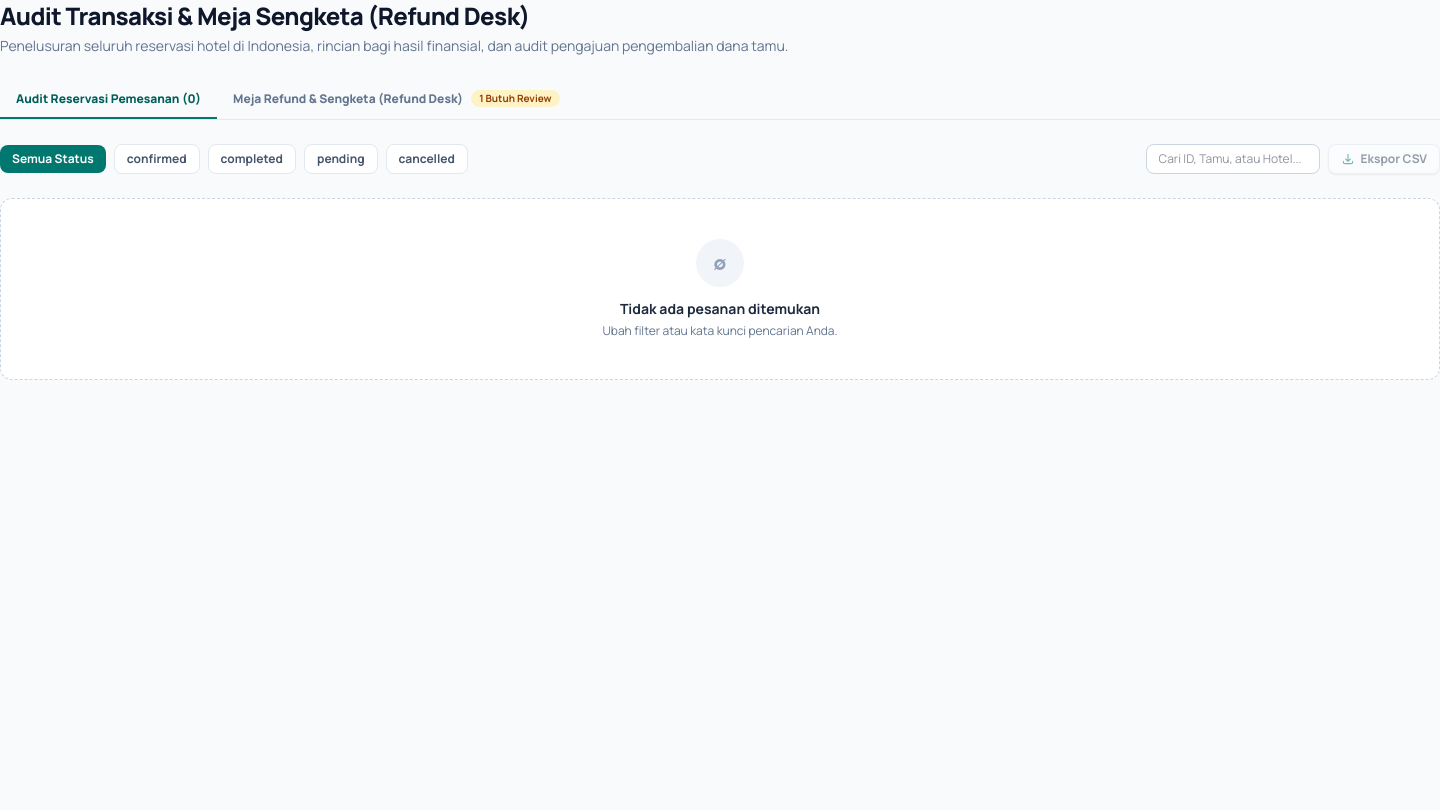
Test: OrderAudit.jsx Component Tests (Tab Refund, Setujui/Tolak Refund & Bukti Mitra) › tombol Setujui membuka modal dan memanggil approveRefundRequest
Later steps or results of the test are not shown.
expect the heading "Audit Transaksi & Meja Sengketa (Refund Desk)" is shown: met, box [0,0,530,32]
Click the button "Meja Refund & Sengketa (Refund Desk) 1 Butuh Review" at (396, 100), box [217,80,576,119]
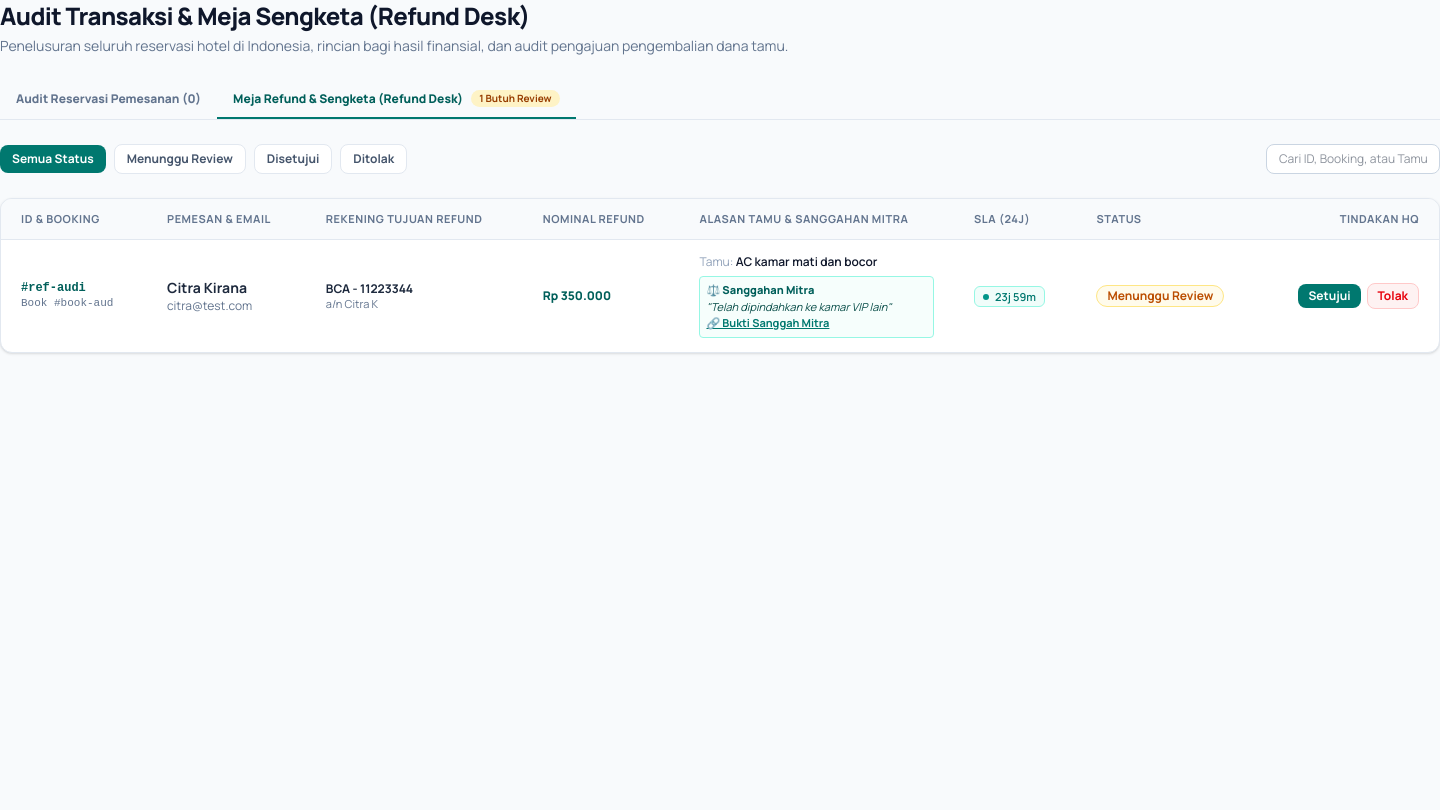
Click the button "Setujui" at (1330, 296), box [1298,284,1361,308]
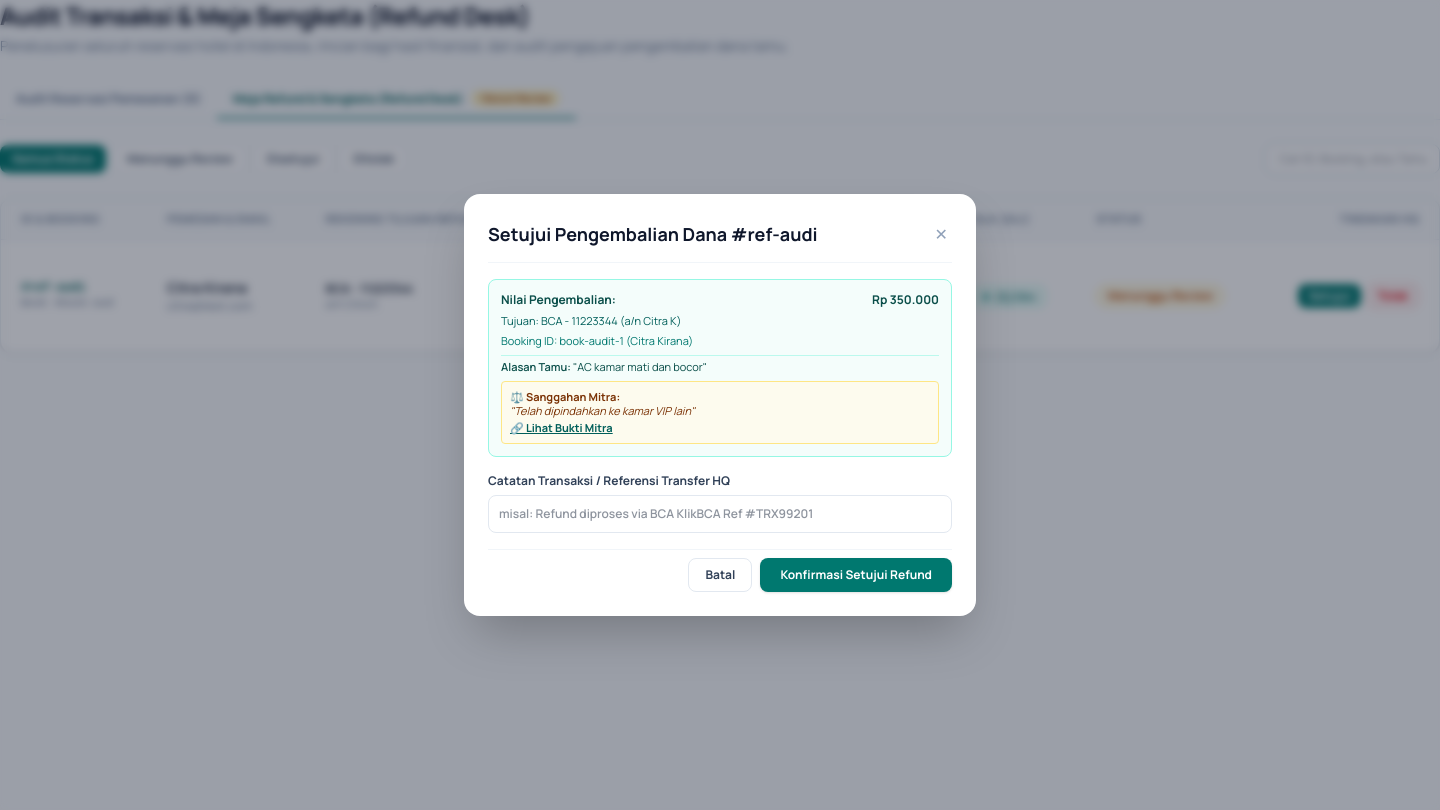
expect the heading "Setujui Pengembalian Dana #ref-audi" is shown: met, box [488,220,818,248]
